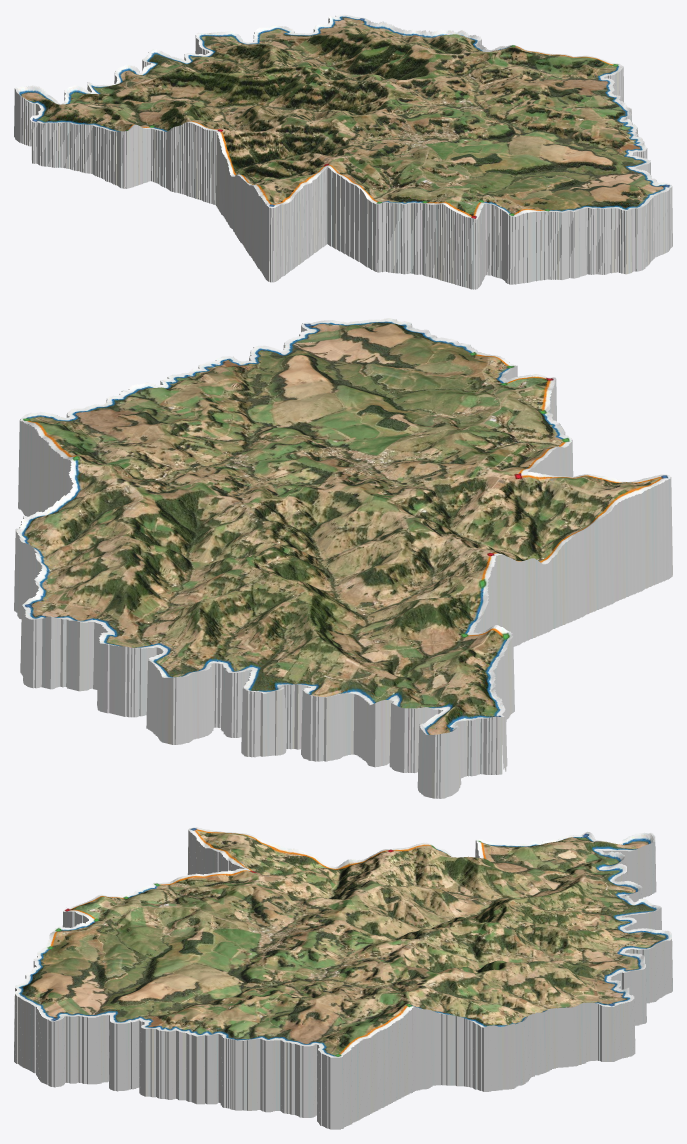
3 renders of one model, top to bottom at view 1: azimuth 30°, elevation 25°; view 2: azimuth 150°, elevation 25°; view 3: azimuth 270°, elevation 25°, orthographic. The views are drawn at different scales.
Bounding box in the file's own units: 1 × 0.1575 × 1.11.
Materials: 1 (1 with a texture image).
